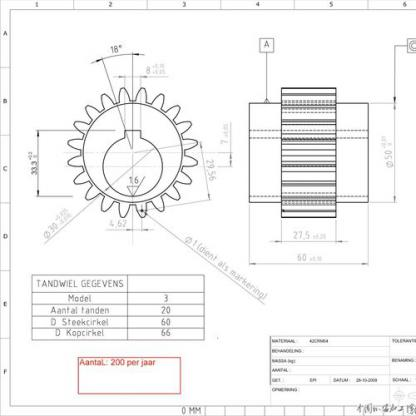FOD: (66, 85, 199, 223)
